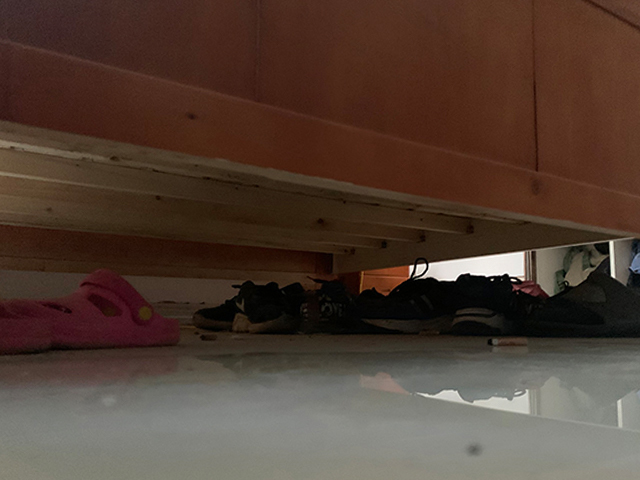bed: (1, 1, 639, 286)
slippers: (1, 267, 183, 354)
